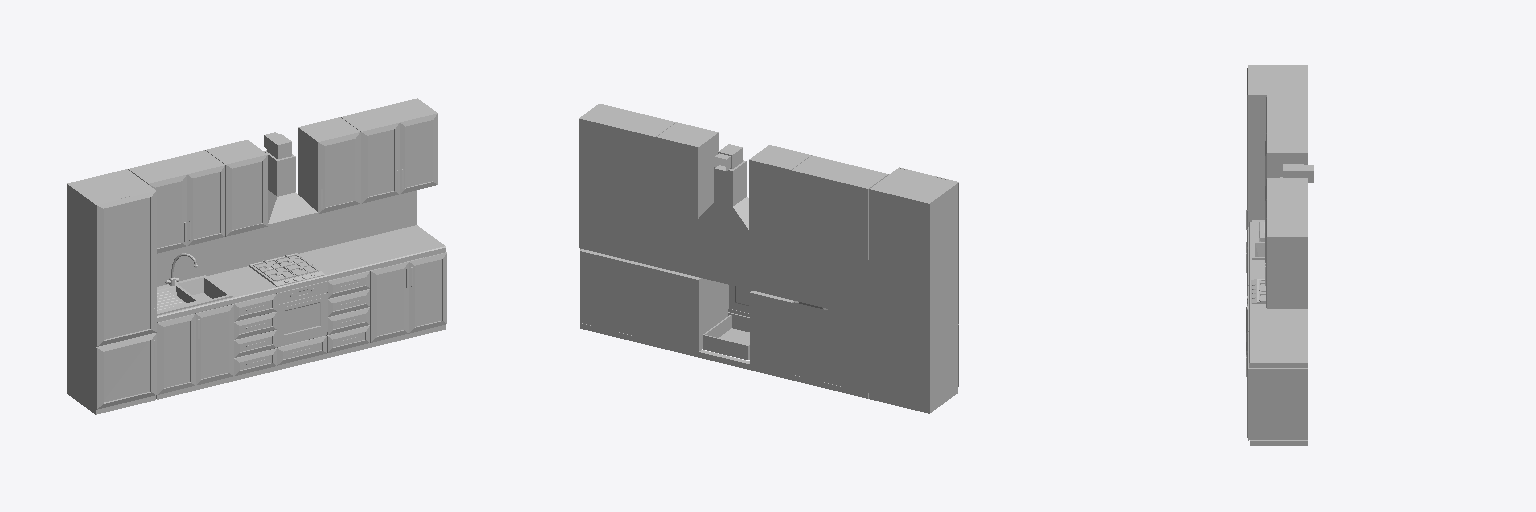
The model's file is cocina.obj.
3 renders of one model, left to right at view 1: azimuth 30°, elevation 25°; view 2: azimuth 150°, elevation 25°; view 3: azimuth 270°, elevation 25°, orthographic.
Parts seen in each view (by area): view 1: Table_table, Cupboard_Big_door_upper_cupboard.010, Cupboard_Big_cupboard, Cupboard_Big_door_lower_cupboard.011, Cupboard_Upper_03_Door_cupboard.014, Cupboard_Upper_02_Door_cupboard.015, Cupboard_Upper_01_Door_L_cupboard.017, Cupboard_Lower_01_Door_L_cupboard.037, Cupboard_Lower_02_Door_L_cupboard.039, Cupboard_Lower_02_Door_R_cupboard.038, Cupboard_Upper_01_Door_R_cupboard.016, Cupboard_Lower_01_Door_R_cupboard.036 (+20 smaller); view 2: Cupboard_Big_cupboard, Table_table, Cupboard_Upper_04_cupboard.007, Cupboard_Upper_01_cupboard.001, Cupboard_Lower_01_cupboard.002, Cupboard_Lower_02_cupboard.008, Cupboard_Upper_02_cupboard.003, Drawer_01_Body_cupboard.005, Cupboard_Upper_03_cupboard.004, Drawer_02_Body_cupboard.006, Air_Vent_air_vent, Basement_basement (+2 smaller); view 3: Cupboard_Upper_01_cupboard.001, Cupboard_Lower_01_cupboard.002, Table_table, Cupboard_Big_cupboard, Cupboard_Upper_04_cupboard.007, Cupboard_Upper_03_cupboard.004, Cupboard_Upper_02_cupboard.003.
Boxes of the visible parts, <box> form: Table_table: <box>157,190,445,321</box>; Cupboard_Big_door_upper_cupboard.010: <box>96,190,156,346</box>; Cupboard_Big_cupboard: <box>67,169,155,414</box>; Cupboard_Big_door_lower_cupboard.011: <box>96,333,156,409</box>; Cupboard_Upper_03_Door_cupboard.014: <box>225,154,267,236</box>; Cupboard_Upper_02_Door_cupboard.015: <box>318,132,360,213</box>; Cupboard_Upper_01_Door_L_cupboard.017: <box>361,122,399,203</box>; Cupboard_Lower_01_Door_L_cupboard.037: <box>370,261,408,342</box>; Cupboard_Lower_02_Door_L_cupboard.039: <box>157,314,195,394</box>; Cupboard_Lower_02_Door_R_cupboard.038: <box>195,304,233,384</box>; Cupboard_Upper_01_Door_R_cupboard.016: <box>400,113,437,193</box>; Cupboard_Lower_01_Door_R_cupboard.036: <box>409,252,446,333</box>; Cupboard_Big_cupboard: <box>869,168,957,413</box>; Table_table: <box>579,190,869,318</box>; Cupboard_Upper_04_cupboard.007: <box>791,156,887,259</box>; Cupboard_Upper_01_cupboard.001: <box>579,104,674,207</box>; Cupboard_Lower_01_cupboard.002: <box>580,250,657,340</box>; Cupboard_Lower_02_cupboard.008: <box>792,301,868,392</box>; Cupboard_Upper_02_cupboard.003: <box>656,123,717,218</box>; Drawer_01_Body_cupboard.005: <box>656,268,727,351</box>; Cupboard_Upper_03_cupboard.004: <box>749,145,810,240</box>; Drawer_02_Body_cupboard.006: <box>750,291,793,374</box>; Air_Vent_air_vent: <box>699,144,748,230</box>; Basement_basement: <box>580,323,868,398</box>; Cupboard_Upper_01_cupboard.001: <box>1268,199,1307,308</box>; Cupboard_Lower_01_cupboard.002: <box>1249,368,1307,439</box>; Table_table: <box>1249,222,1307,367</box>; Cupboard_Big_cupboard: <box>1250,65,1307,221</box>; Cupboard_Upper_04_cupboard.007: <box>1268,95,1307,132</box>; Cupboard_Upper_03_cupboard.004: <box>1268,133,1307,177</box>; Cupboard_Upper_02_cupboard.003: <box>1268,178,1307,198</box>.
Size of the model in its own units: 3.62 by 2.07 by 0.6012.